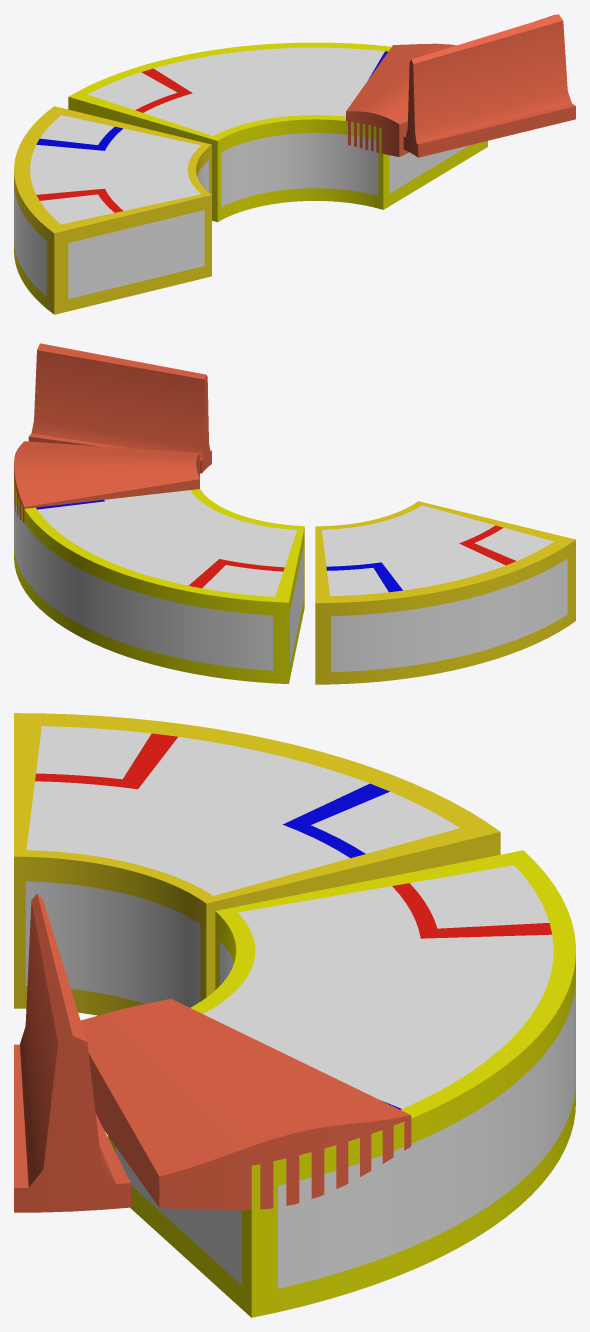
The model's file is Segments.fbx.
3 views of the same model, one above another, from view 1: azimuth 30°, elevation 25°; view 2: azimuth 150°, elevation 25°; view 3: azimuth 270°, elevation 25° (orthographic). The views are drawn at different scales.
Visible parts, largest first — view 1: Цилиндр, Цилиндр.005, Цилиндр.007, Цилиндр.006; view 2: Цилиндр, Цилиндр.005, Цилиндр.007, Цилиндр.006; view 3: Цилиндр, Цилиндр.005, Цилиндр.006, Цилиндр.007.
Part boxes in pixels (box(x1,y1,x2,y2)): Цилиндр: box(68, 42, 487, 222); Цилиндр.005: box(14, 106, 211, 314); Цилиндр.007: box(403, 14, 575, 157); Цилиндр.006: box(346, 43, 456, 156); Цилиндр: box(14, 479, 304, 683); Цилиндр.005: box(315, 501, 575, 684); Цилиндр.007: box(28, 343, 211, 473); Цилиндр.006: box(14, 441, 199, 523); Цилиндр: box(108, 850, 575, 1317); Цилиндр.005: box(14, 713, 500, 1015); Цилиндр.006: box(81, 999, 411, 1210); Цилиндр.007: box(14, 893, 130, 1212).
Bounding box in the file's own units: 4 × 1.19 × 2.
